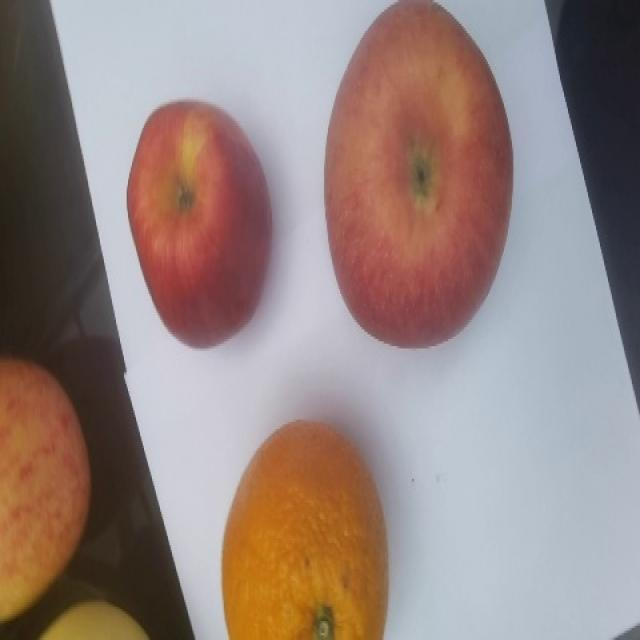Apple: (323, 0, 514, 349), (125, 98, 273, 349), (0, 356, 92, 624)
Orange: (220, 419, 389, 639)
